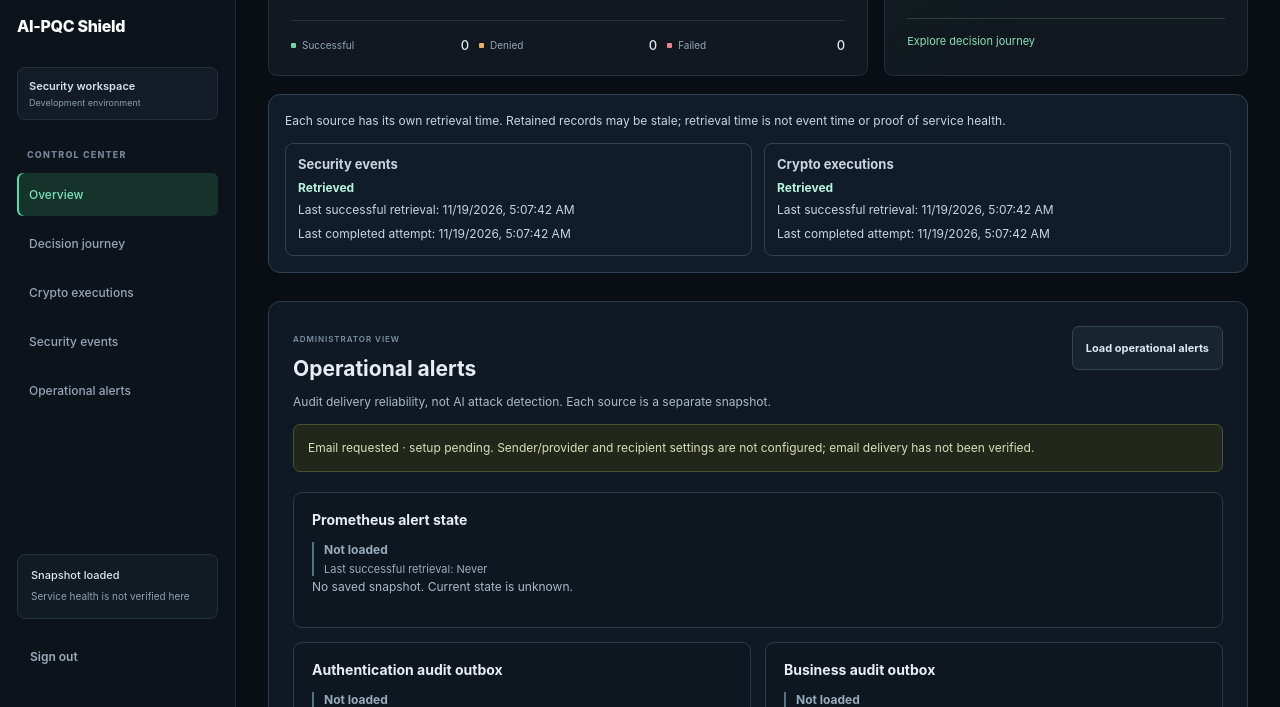
Test: Operational snapshot access/session boundaries › enforces operational403 in the complete dashboard while outbox peers remain slow
(page scrolled)
Step 1. Click the button "Load operational alerts" → (1147,348), box [1072,326,1223,370]
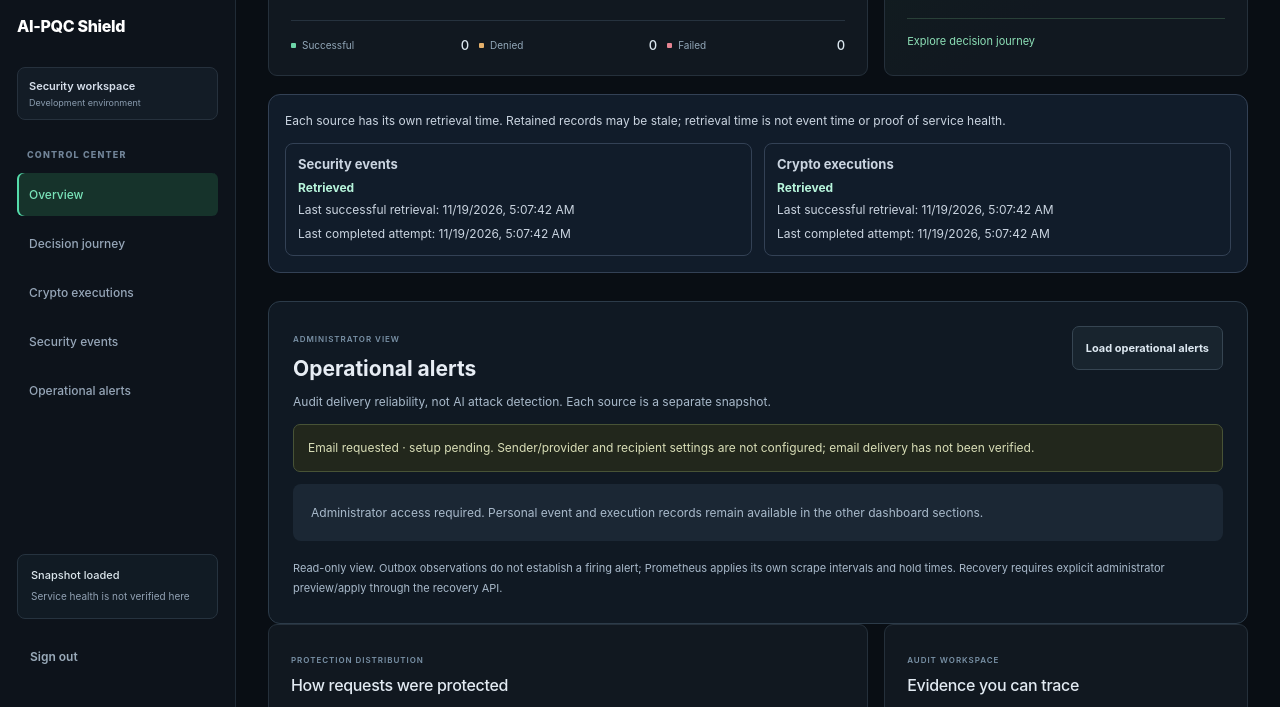
Now the text "Administrator access required" is shown, box [311,505,983,520]
